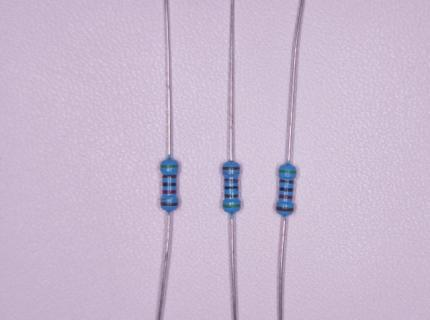Black band: (279, 187, 293, 192), (224, 186, 239, 190), (162, 183, 177, 187)
Brown band: (276, 206, 294, 212), (279, 179, 294, 184), (161, 202, 179, 206), (162, 175, 177, 179), (225, 194, 239, 198), (222, 167, 240, 170)
Green band: (279, 170, 297, 174), (160, 165, 179, 168), (222, 205, 241, 208)
Red band: (224, 178, 239, 183), (278, 194, 293, 199), (163, 190, 177, 194)
